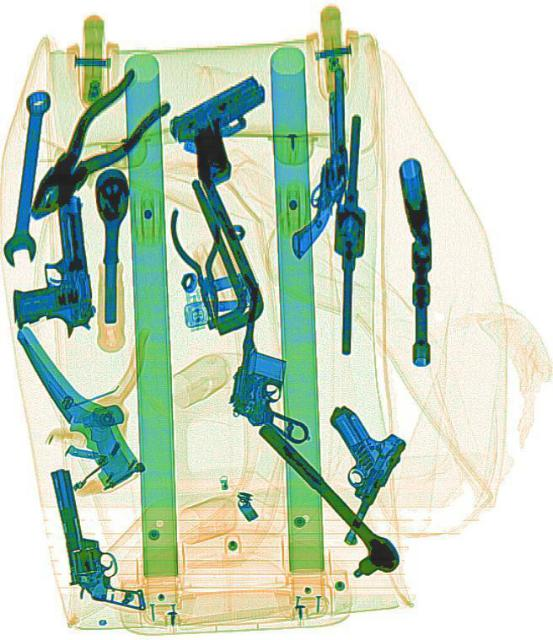Gun: (281, 400, 408, 546), (225, 281, 326, 444), (47, 458, 145, 620), (165, 70, 290, 192), (278, 65, 353, 257), (0, 192, 92, 342)
Pliers: (11, 61, 171, 236), (164, 198, 240, 336)
Wrench: (1, 86, 53, 268)
